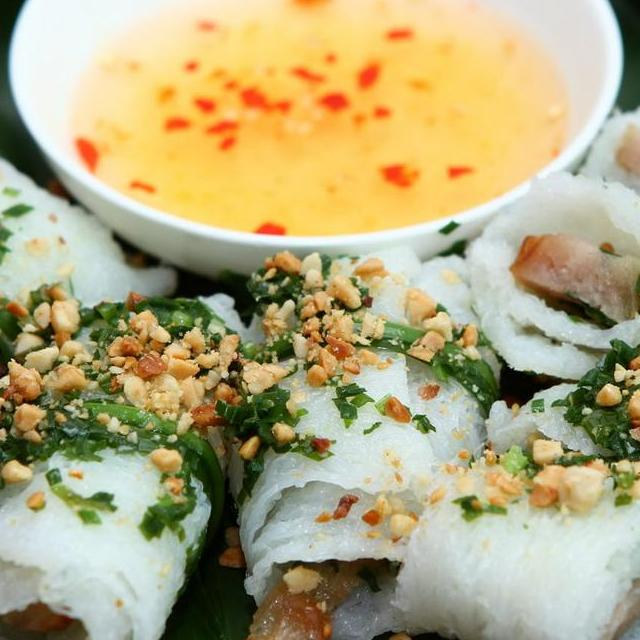banh hoi: (223, 236, 502, 640), (0, 279, 284, 640), (0, 125, 192, 561), (383, 445, 640, 640), (477, 321, 640, 596), (464, 165, 640, 392), (566, 79, 640, 355)
banh hoi heo quay: (0, 0, 640, 640)
thit heo quay: (504, 224, 640, 339), (236, 539, 389, 640)
